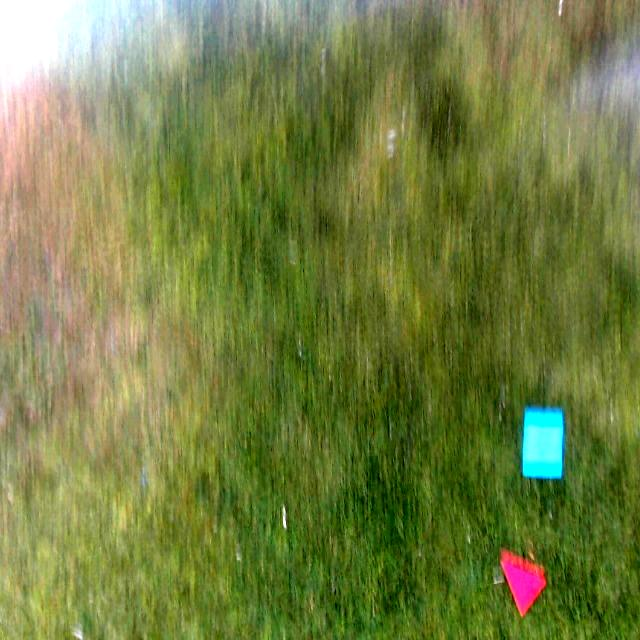blue_square: (523, 416, 562, 474)
red_triangle: (504, 562, 545, 614)
